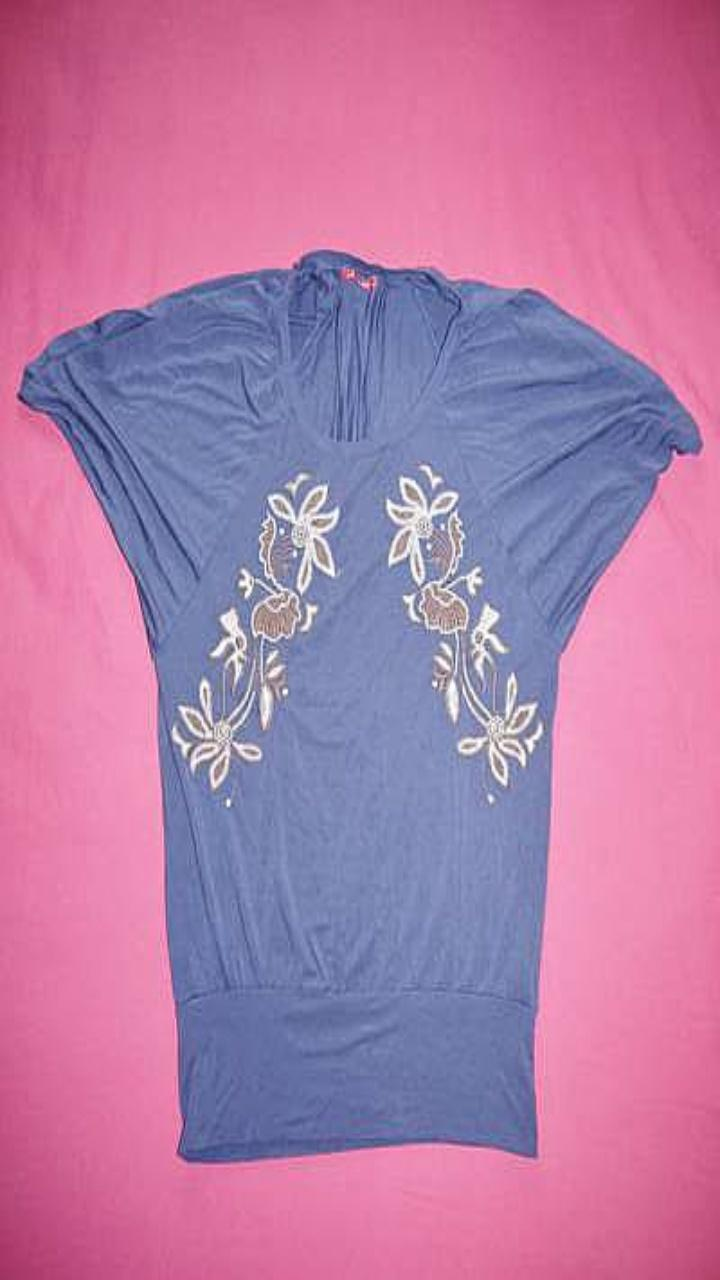T-Shirt: (18, 248, 701, 1160)
